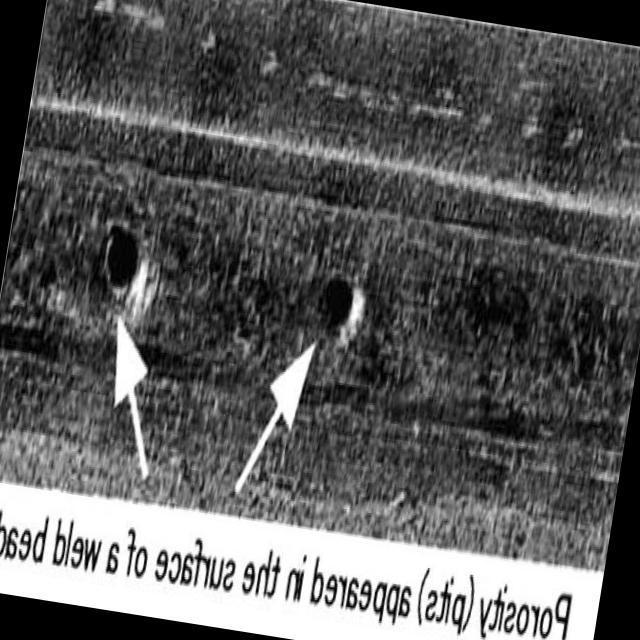defect: (309, 249, 372, 337), (99, 215, 144, 310)
